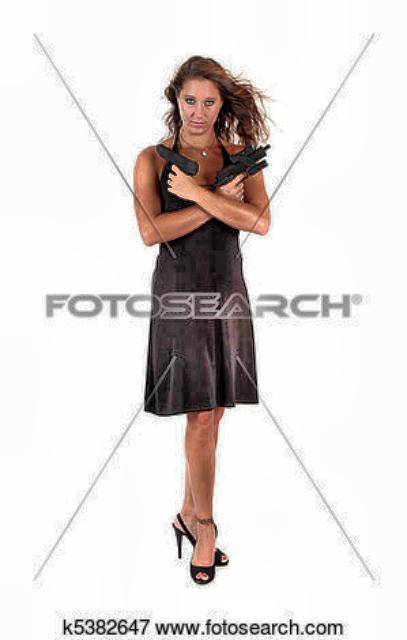pistol: (210, 138, 270, 196), (152, 142, 200, 178)
